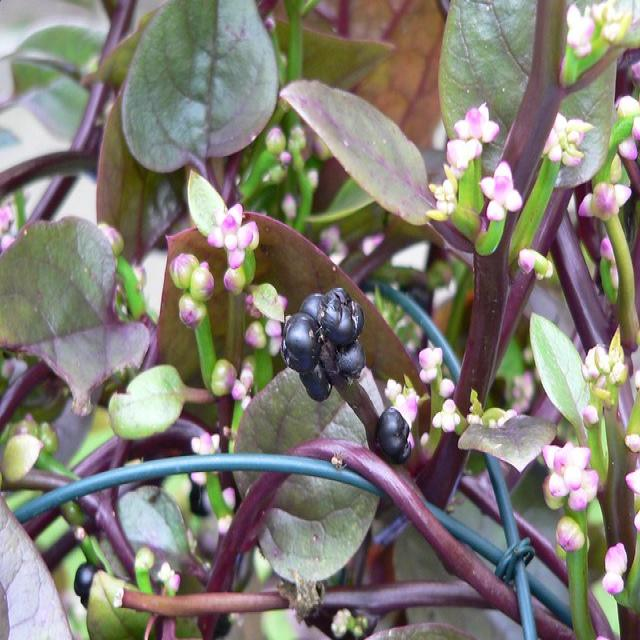Medicinal-Basale: (6, 3, 640, 640)
